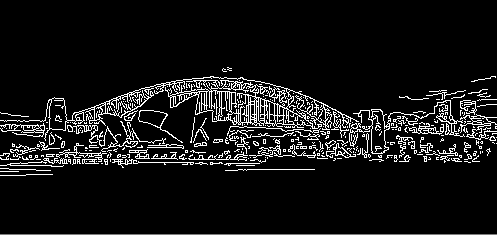opera house: (54, 88, 251, 164)
